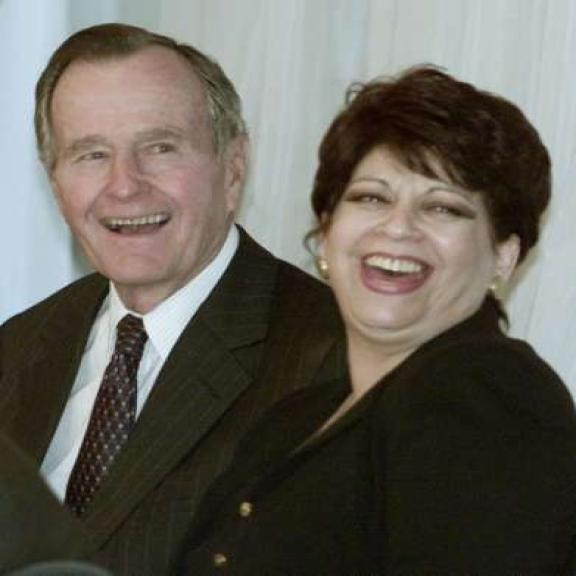face: (37, 42, 254, 284), (316, 108, 530, 342)
